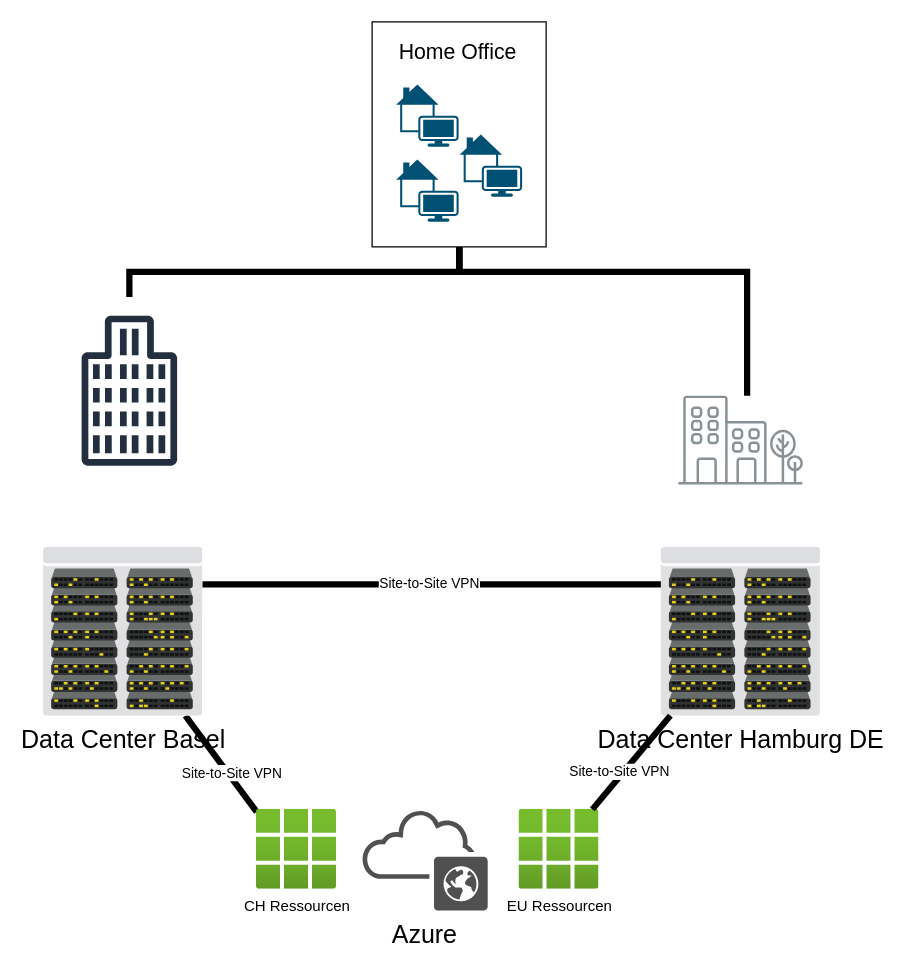
The diagram is 906 pixels wide and 971 high, and some of its shapes have lost their labels. Here are the shapes that lost their labels. From the top down, the centre of each, then its label:
At (128,390): "Hauptsitz Basel CH".
At (740,439): "EU Standort Hamburg DE".
